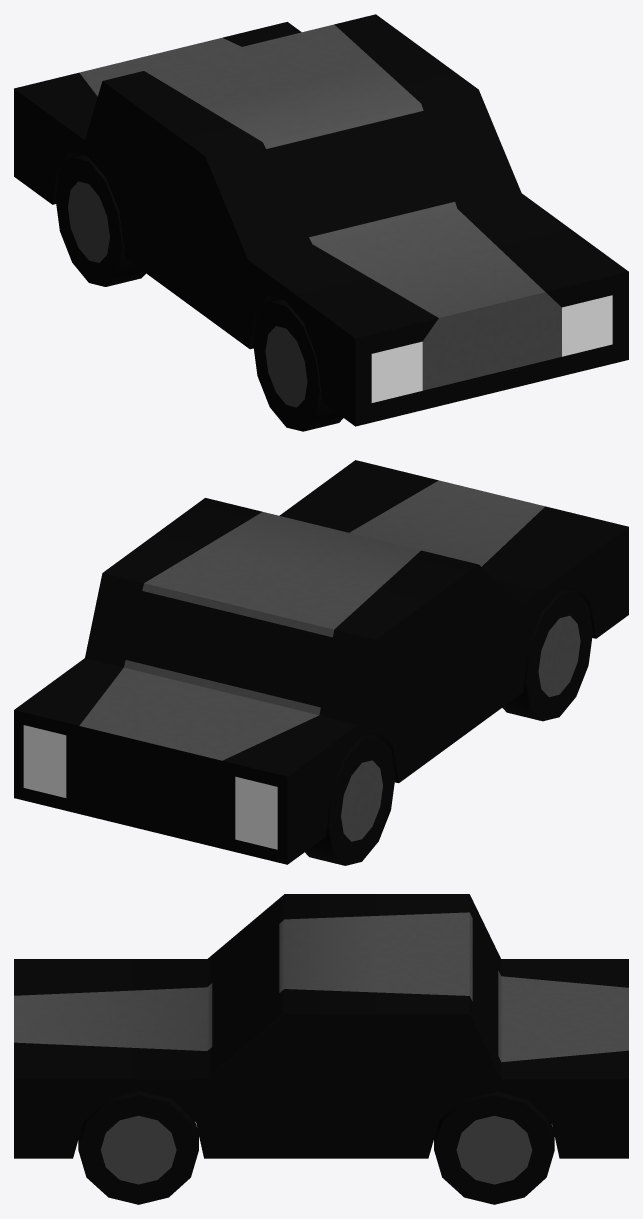
File: SM_Car.FBX
The picture shows the model from 3 angles, top to bottom: view 1: azimuth 30°, elevation 25°; view 2: azimuth 150°, elevation 25°; view 3: azimuth 270°, elevation 25°; orthographic projection. The views are drawn at different scales.
Visible parts, largest first — view 1: SM_Car; view 2: SM_Car; view 3: SM_Car.
Boxes of the visible parts, <box> form: SM_Car: <box>14,14,628,431</box>; SM_Car: <box>14,460,628,865</box>; SM_Car: <box>14,894,628,1204</box>.
Bounding box in the file's own units: 71.34 × 52.86 × 154.
